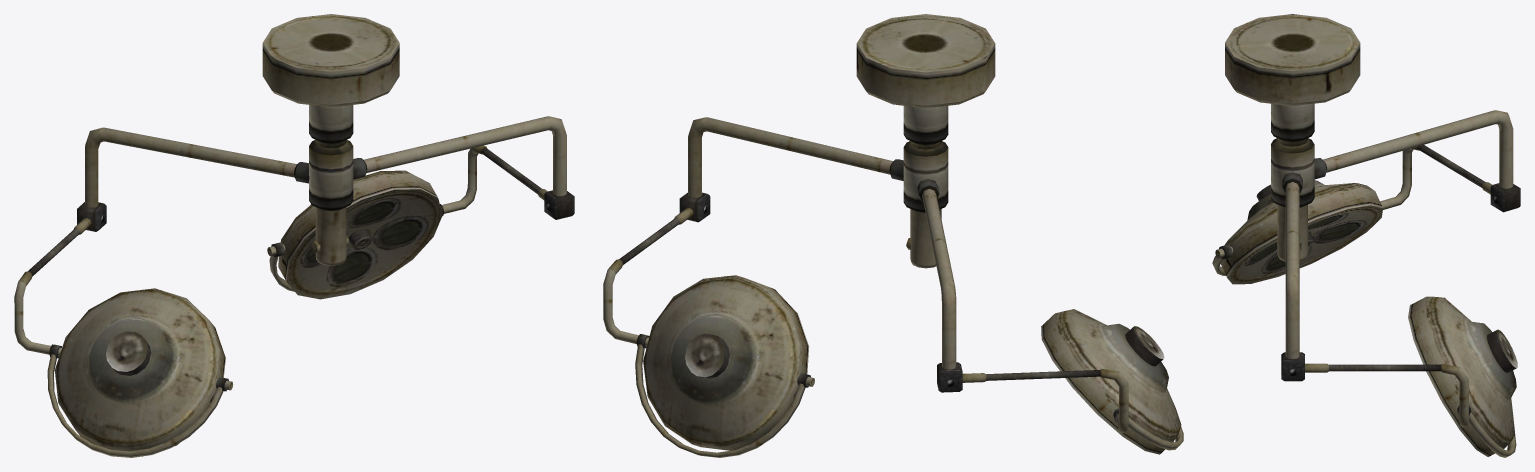
The model's file is light01_on_obj_uni17_ag.obj.
3 views of the same model, side by side, from view 1: azimuth 30°, elevation 25°; view 2: azimuth 150°, elevation 25°; view 3: azimuth 270°, elevation 25° (orthographic). The views are drawn at different scales.
Visible parts, largest first — view 1: light01_on_obj_uni17_ag; view 2: light01_on_obj_uni17_ag; view 3: light01_on_obj_uni17_ag.
Part boxes in pixels (bbox=[...]): light01_on_obj_uni17_ag: bbox=[14, 14, 574, 457]; light01_on_obj_uni17_ag: bbox=[603, 14, 1183, 457]; light01_on_obj_uni17_ag: bbox=[1212, 14, 1520, 457].
Size of the model in its own units: 240 by 164 by 131.
Materials: 1 (1 with a texture image).
